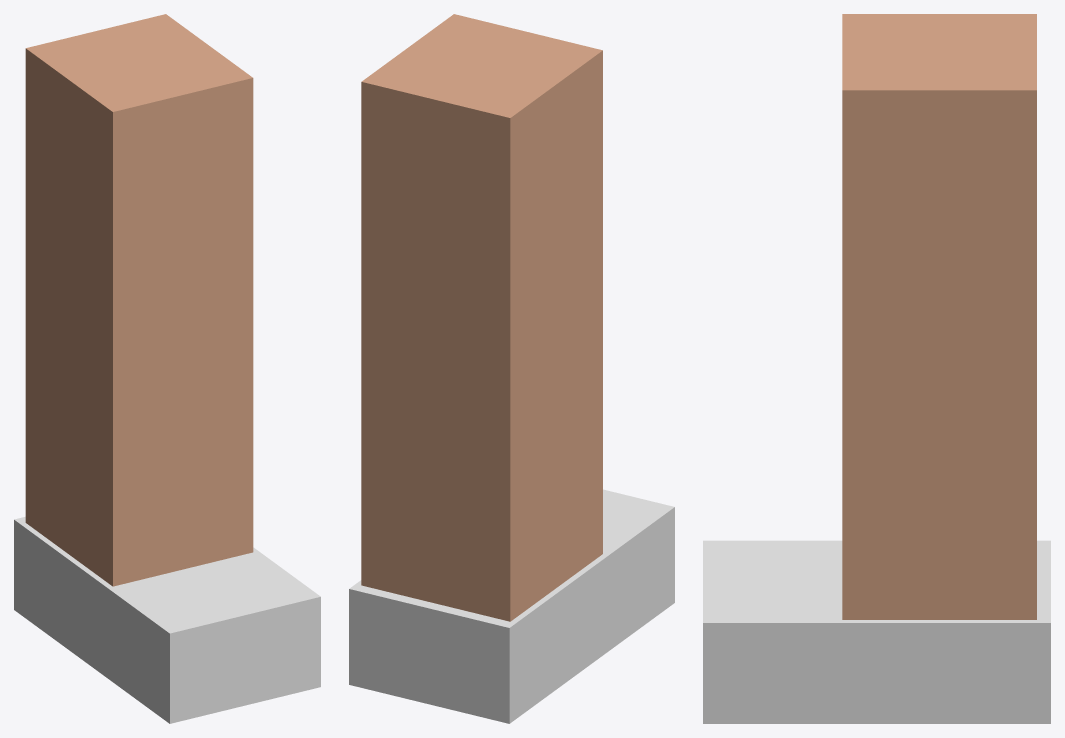
The model's file is j1_pantorrilla.obj.
The picture shows the model from 3 angles, left to right: view 1: azimuth 30°, elevation 25°; view 2: azimuth 150°, elevation 25°; view 3: azimuth 270°, elevation 25°; orthographic projection. The views are drawn at different scales.
Size of the model in its own units: 0.14 by 0.5 by 0.25.
Materials: 2 (2 with a texture image).
